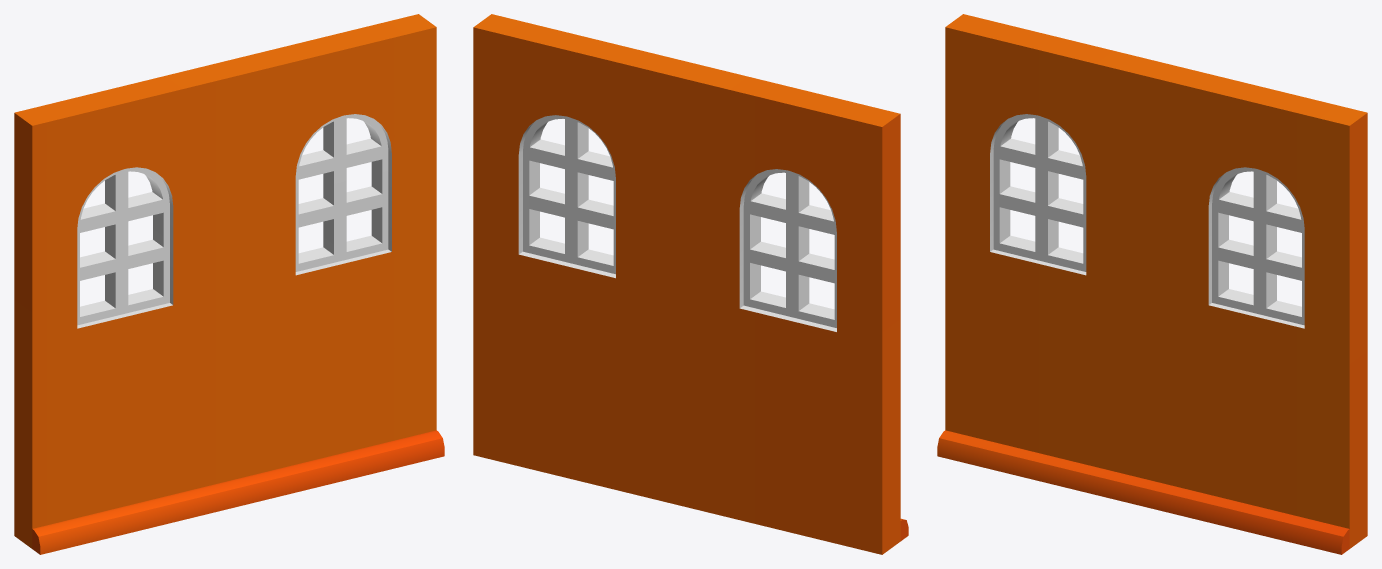
Rendered from O_Wall002.fbx.
The picture shows the model from 3 angles, left to right: view 1: azimuth 30°, elevation 25°; view 2: azimuth 150°, elevation 25°; view 3: azimuth 330°, elevation 25°; orthographic projection.
Parts seen in each view (by area): view 1: Wall002.001; view 2: Wall002.001; view 3: Wall002.001.
Boxes of the visible parts, bbox=[...] form: Wall002.001: bbox=[14, 14, 444, 554]; Wall002.001: bbox=[473, 14, 908, 554]; Wall002.001: bbox=[937, 14, 1367, 554].
Size of the model in its own units: 250 by 250 by 27.87.
1 material, 1 textured.
